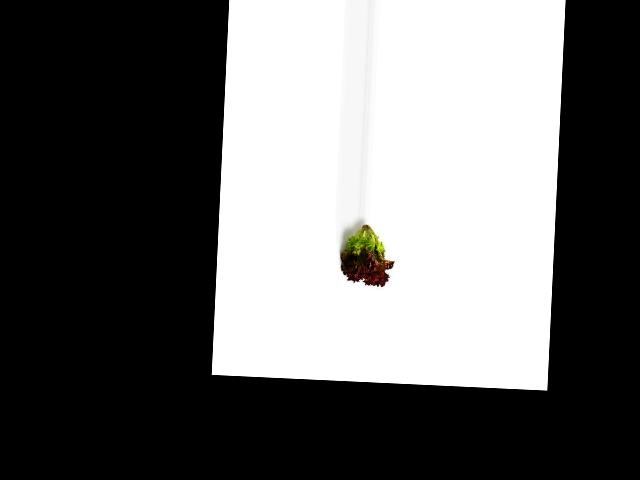lettuce: (338, 215, 394, 290)
